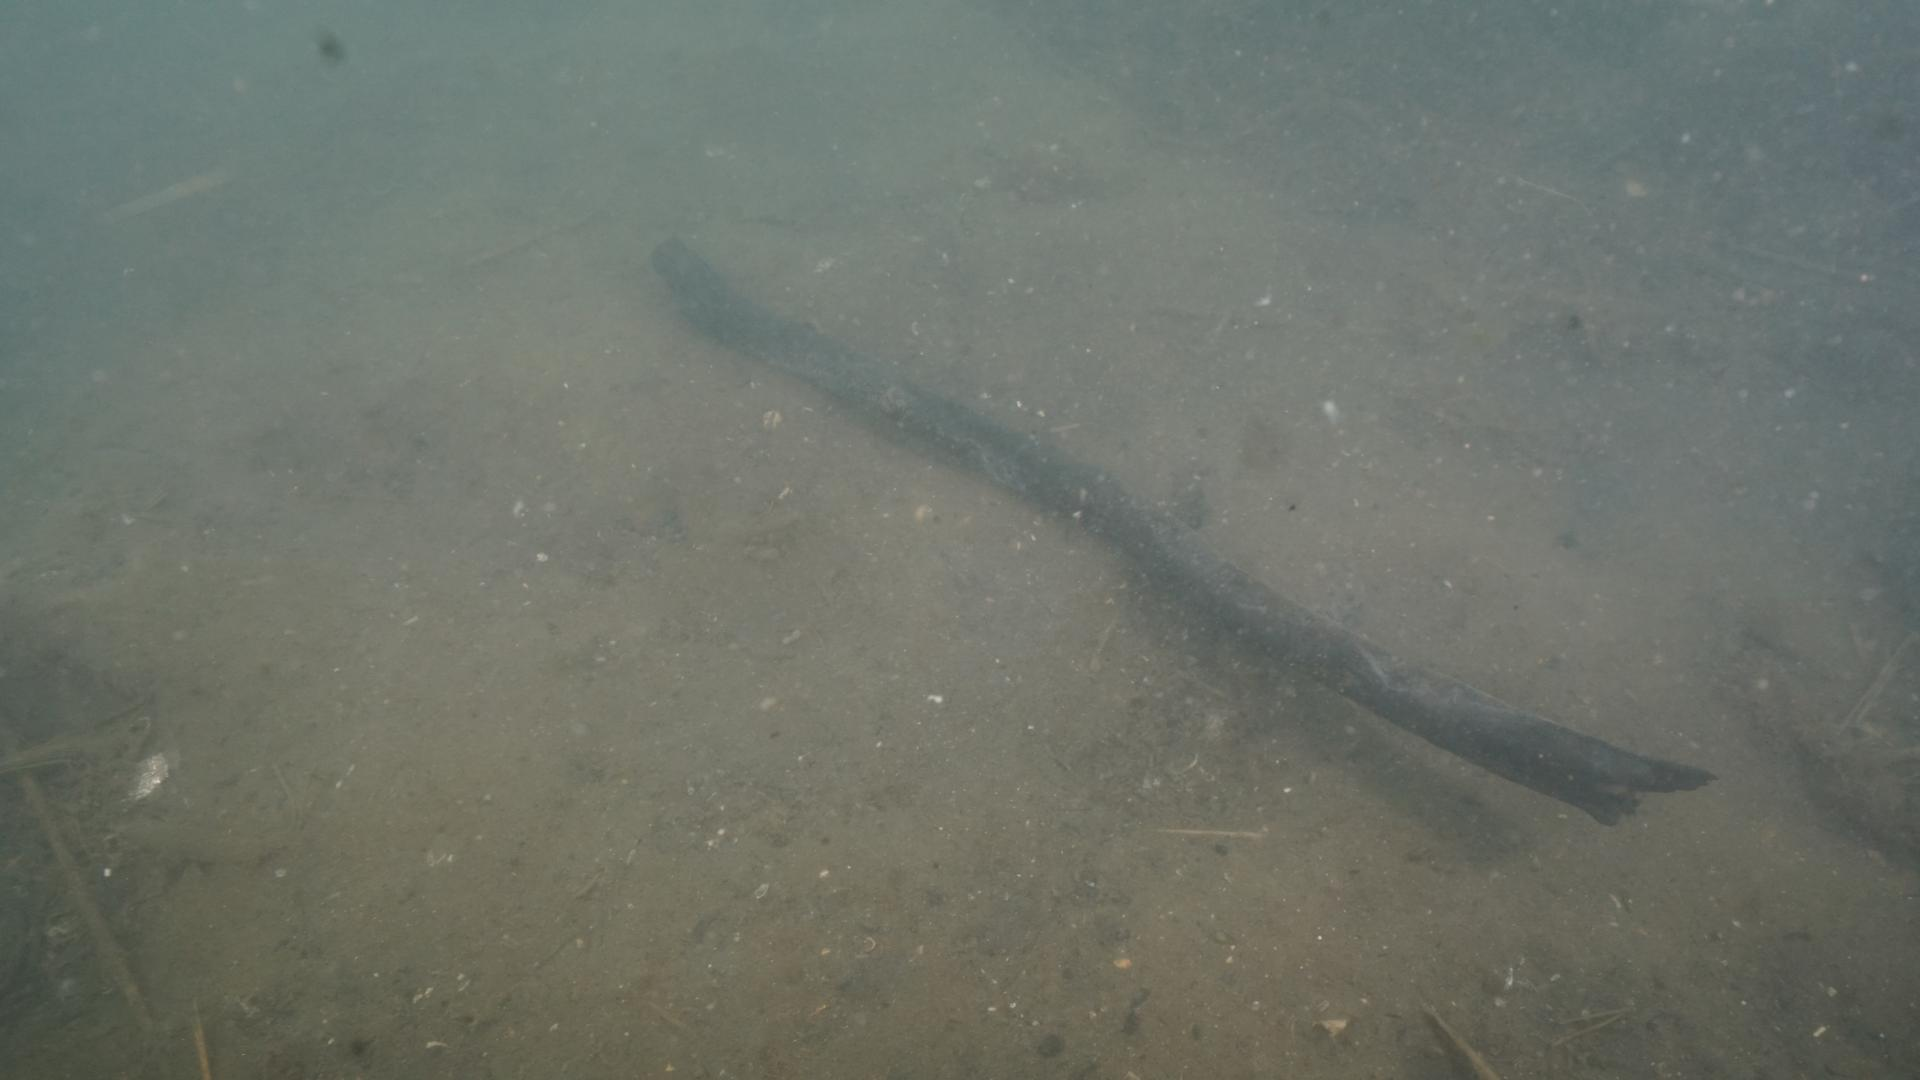wood: (654, 241, 1718, 823)
